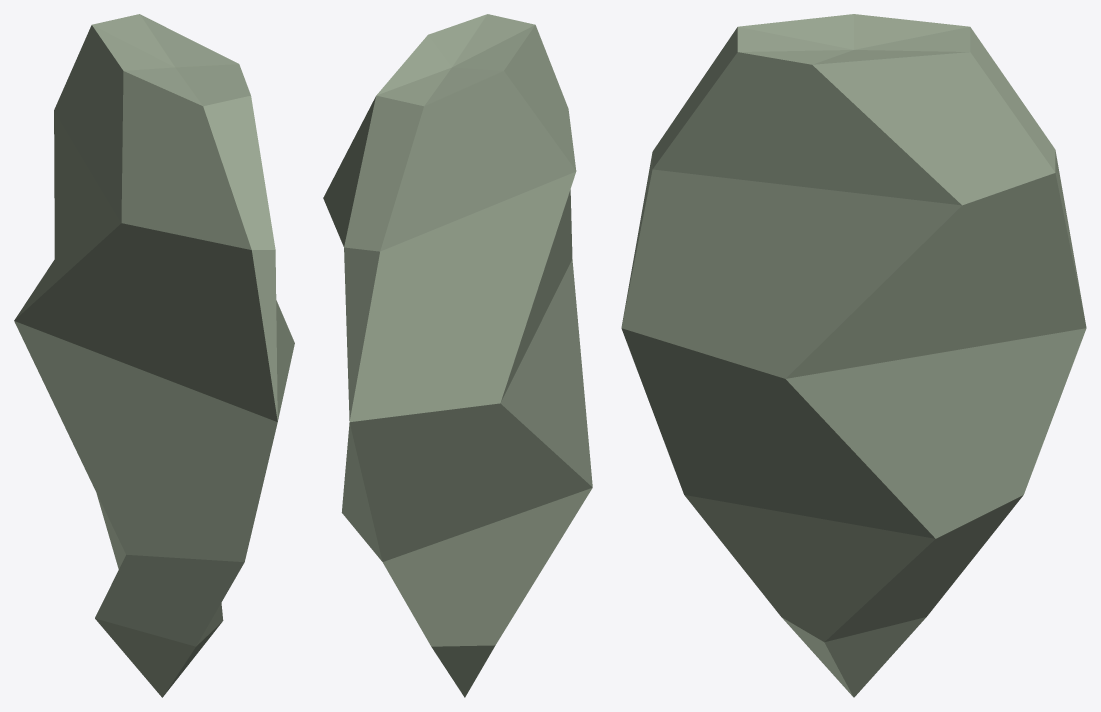
Rendered from leafy.fbx.
3 renders of one model, left to right at view 1: azimuth 30°, elevation 25°; view 2: azimuth 150°, elevation 25°; view 3: azimuth 270°, elevation 25°, orthographic. The views are drawn at different scales.
Parts seen in each view (by area): view 1: pSphere1; view 2: pSphere1; view 3: pSphere1.
Part boxes in pixels (box(x1,y1,x2,y2)): pSphere1: box(14, 14, 294, 697); pSphere1: box(323, 14, 592, 697); pSphere1: box(621, 14, 1086, 697).
Size of the model in its own units: 0.8598 by 2.73 by 1.73.
